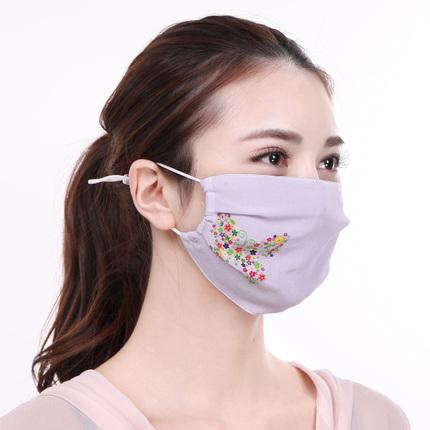OK: (147, 119, 344, 313)
